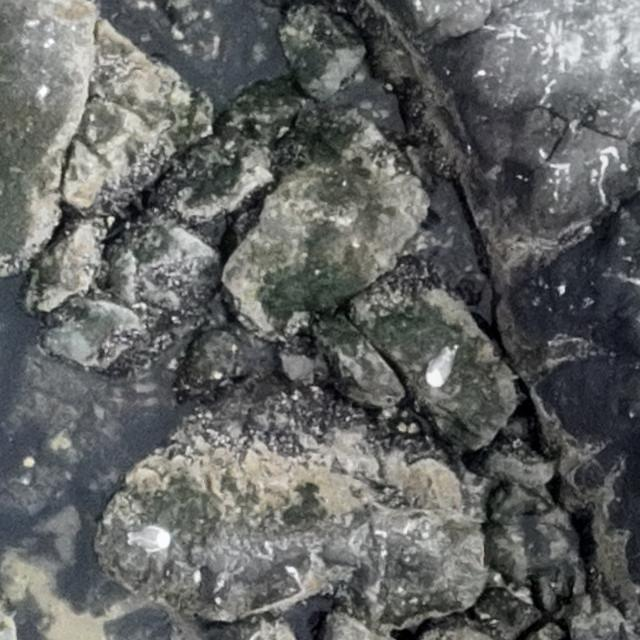umineko: (425, 347, 455, 386), (129, 525, 171, 549)
